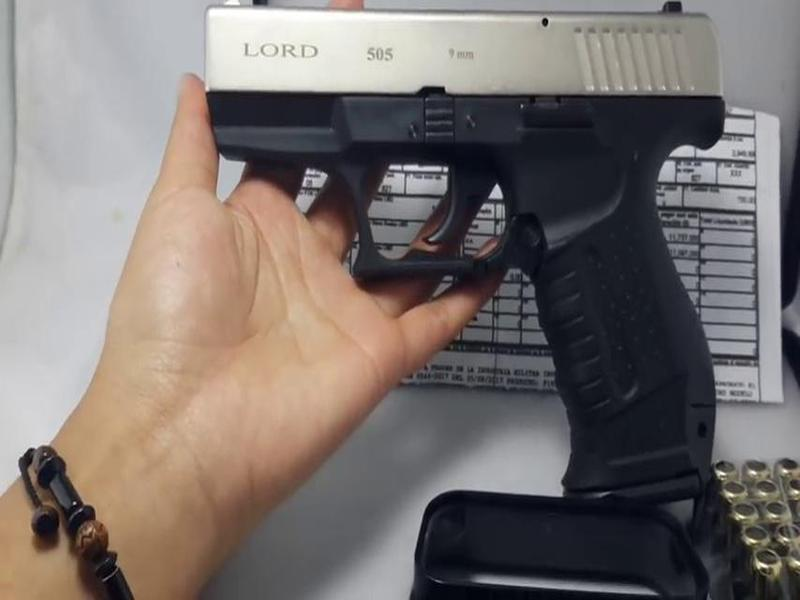Pistola: (192, 1, 762, 530)
